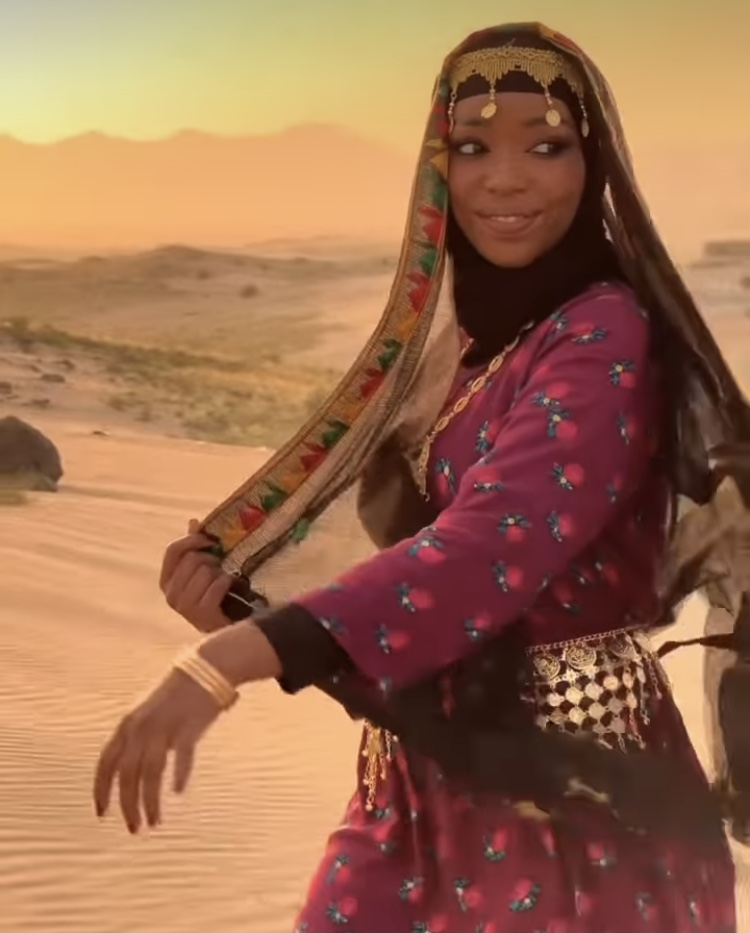Saudi_Founding_Day: (86, 17, 750, 933)
